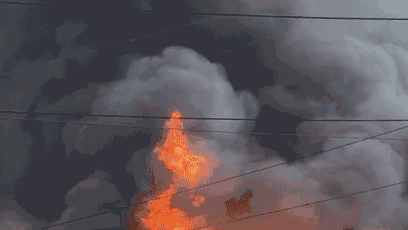fire: (140, 111, 225, 228)
smoke: (28, 10, 394, 108)
